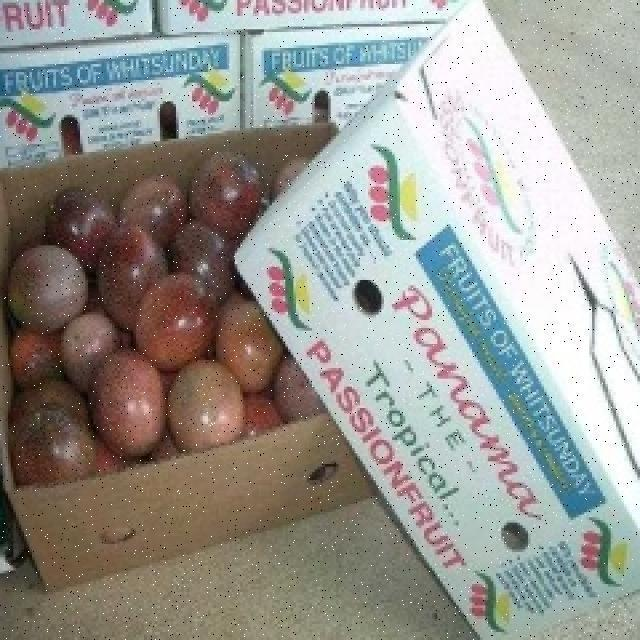box: (0, 146, 640, 640), (4, 49, 262, 152), (248, 24, 432, 129), (0, 0, 178, 77), (162, 0, 466, 24)
